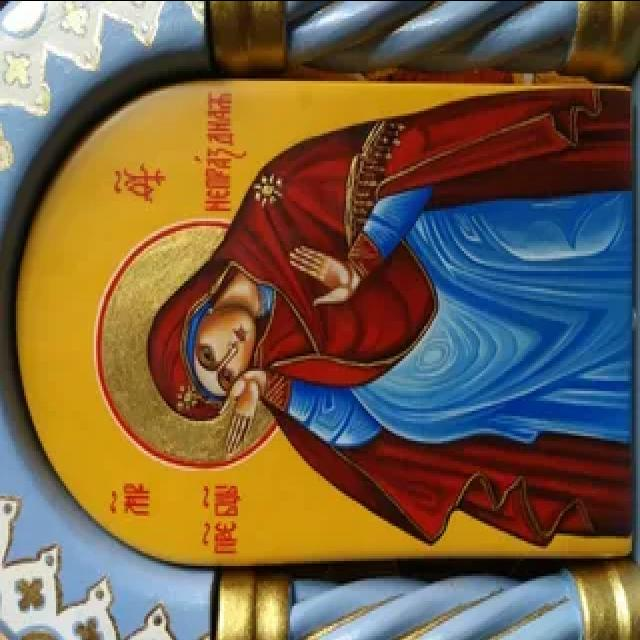mother of god: (136, 76, 640, 540)
